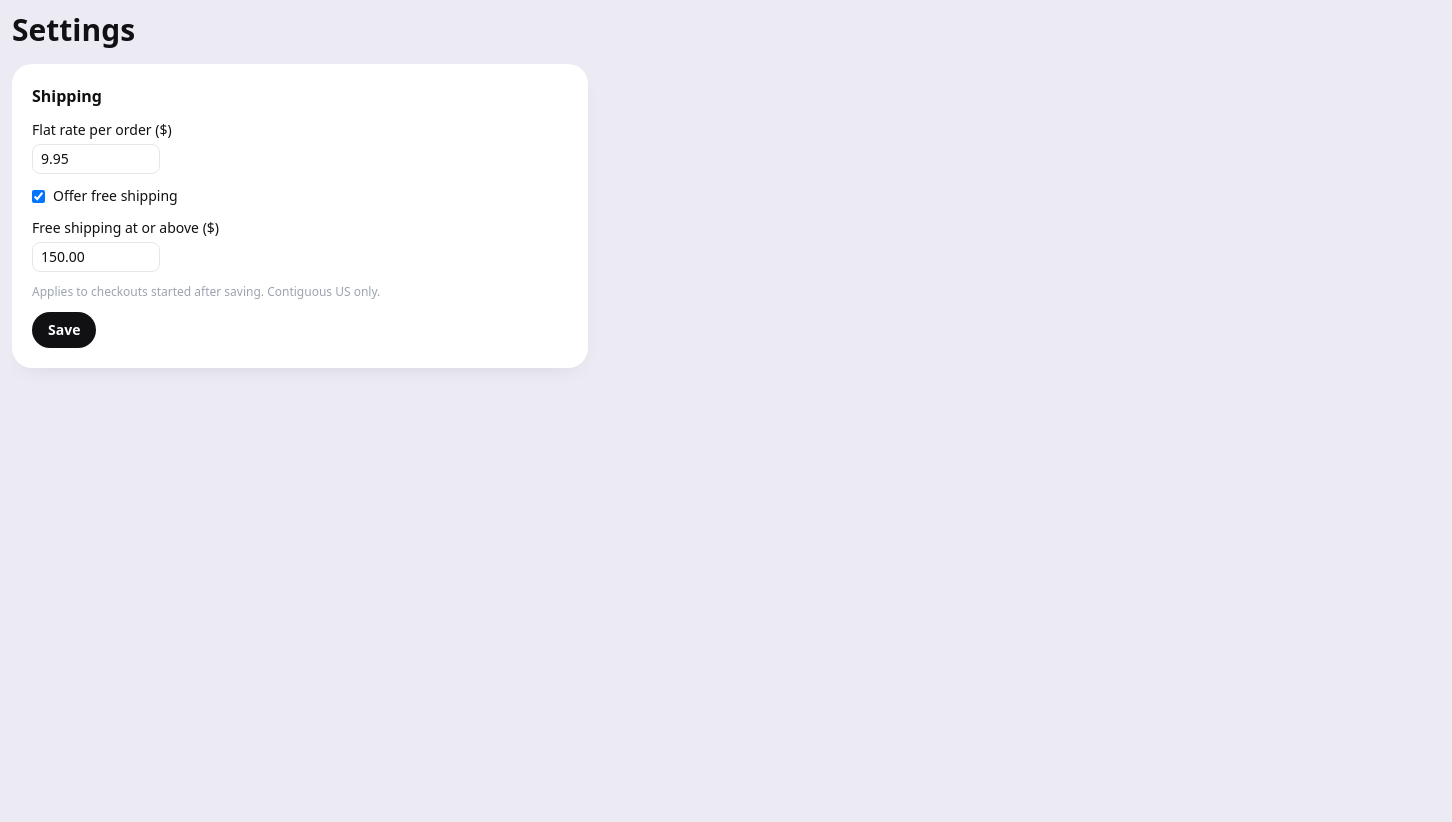
Test: ShippingSettings › saves cents, converting once
Step 1. Replace the text in the field labelled "Flat rate per order ($)" with "12.95" → (96, 159), box [32,144,160,174]
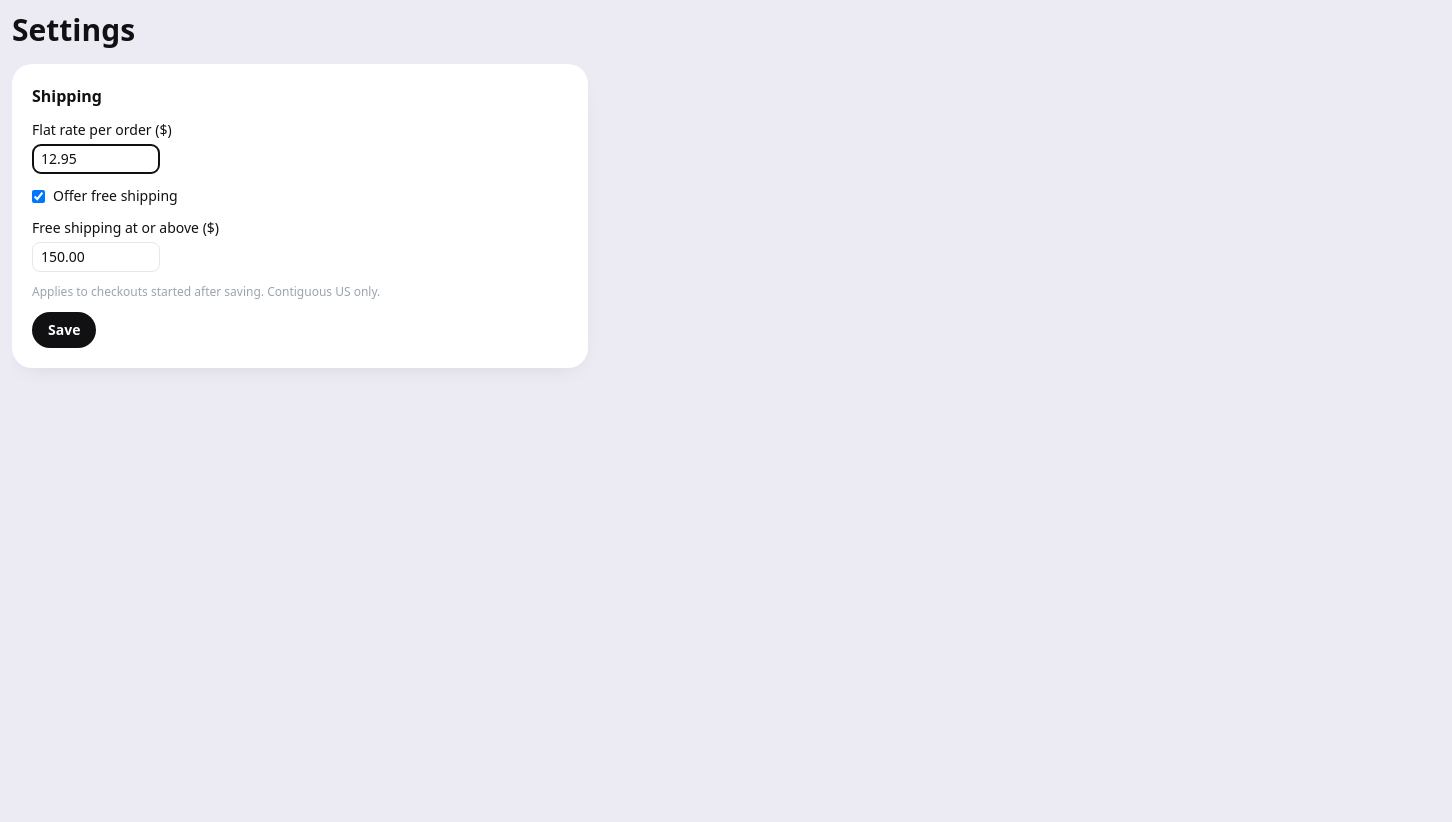
Step 2. Click the button "Save" → (64, 330), box [32,312,96,348]
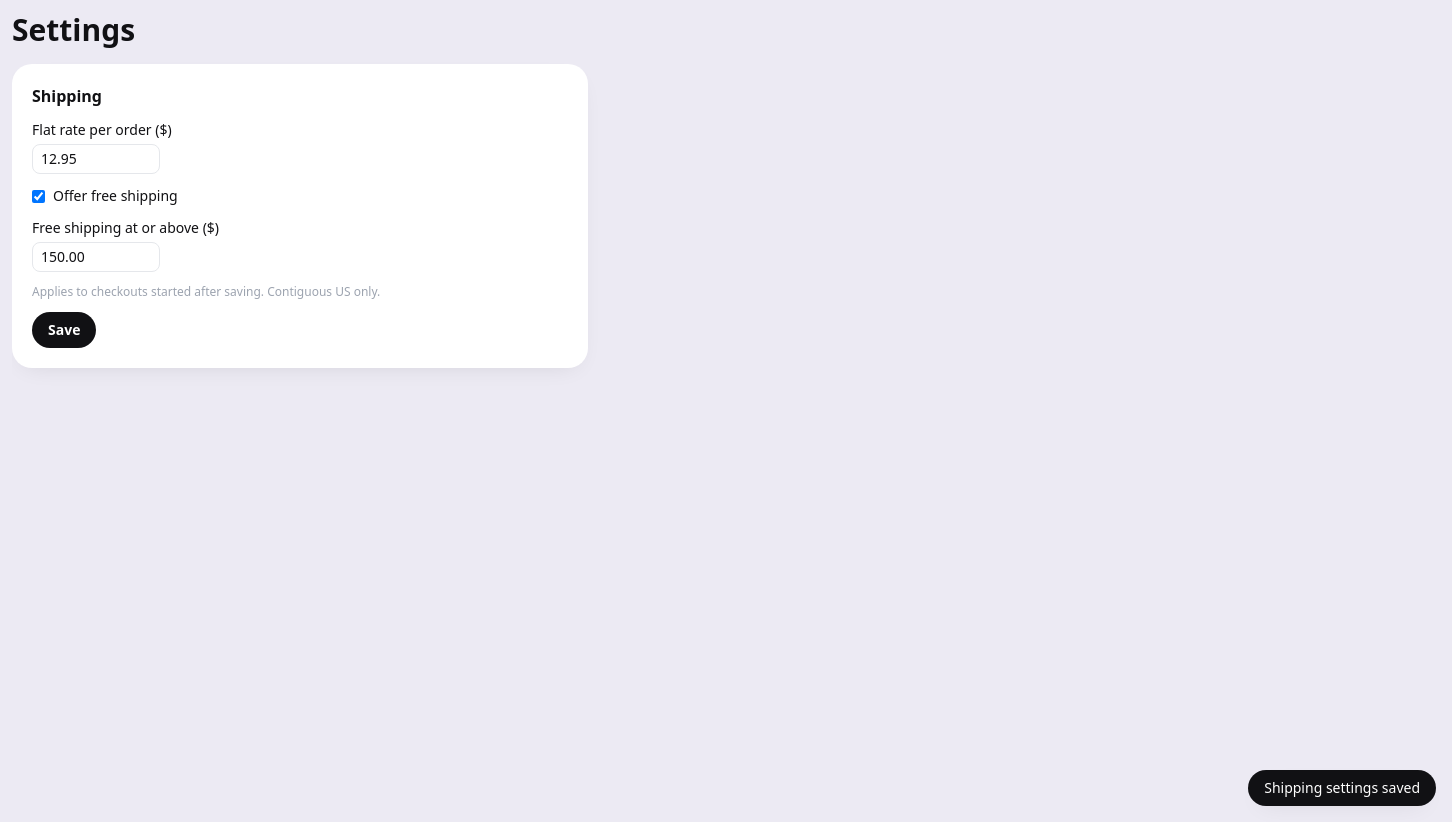
expect the text "Shipping settings saved" is shown: met, box [1248,770,1436,806]
